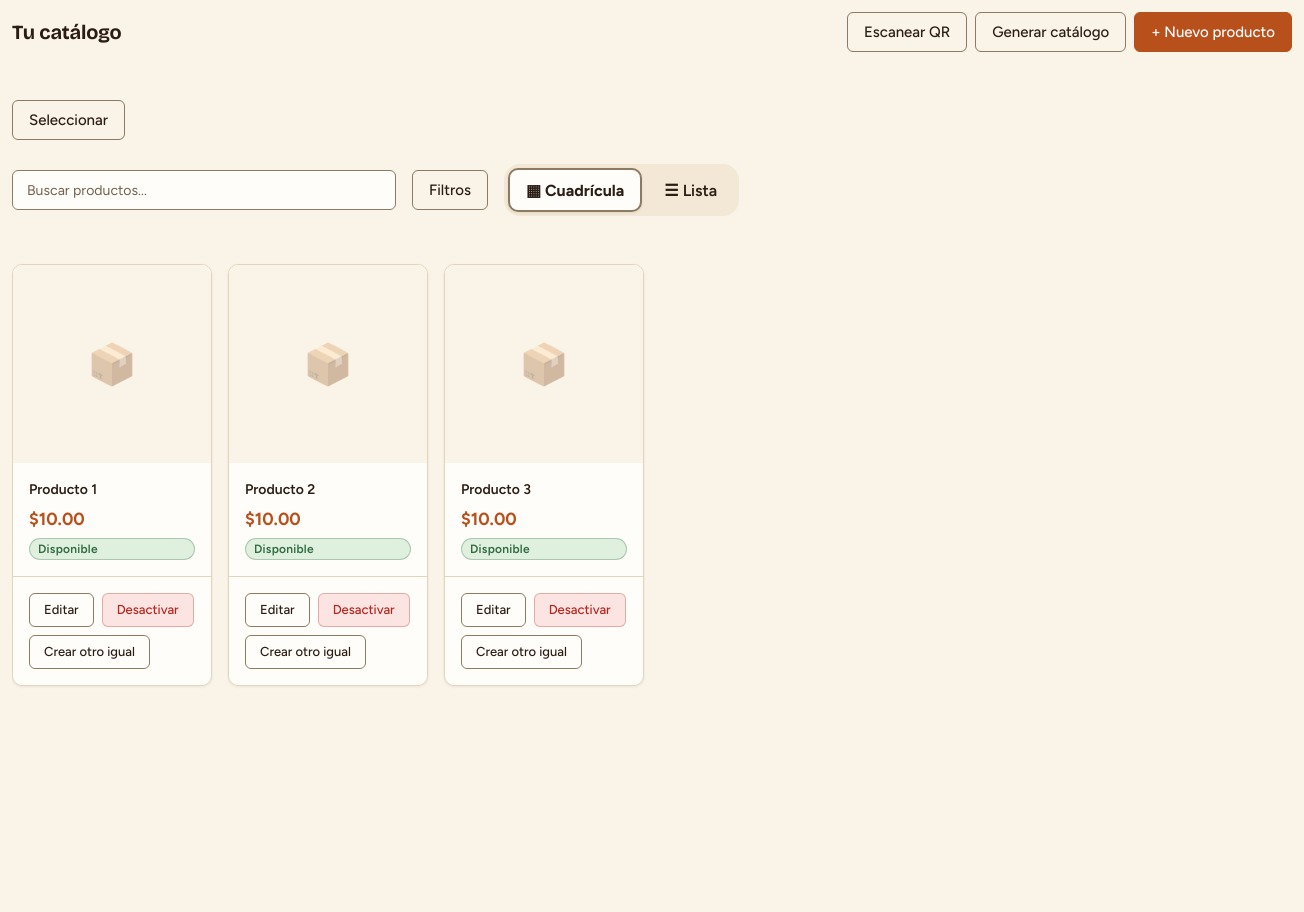
ProductCatalogView — selección para imprimir códigos QR › "Seleccionar todos" trae todos los activos de todas las páginas y avisa cuántos
Step 1. Click the button "Seleccionar" → point(68, 120), box [12,100,125,140]
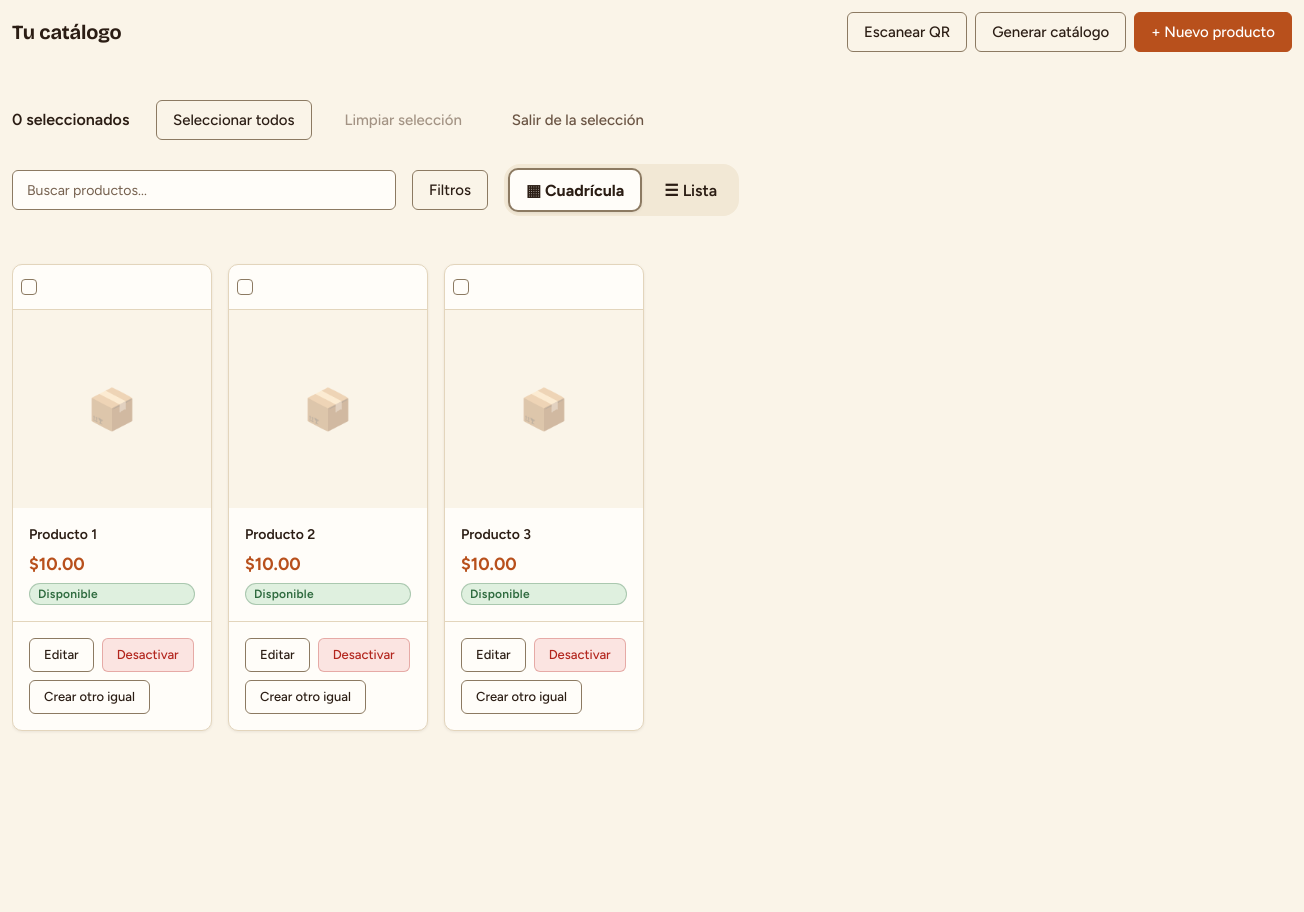
Step 2. Click the button "Seleccionar todos" → point(234, 120), box [156,100,312,140]
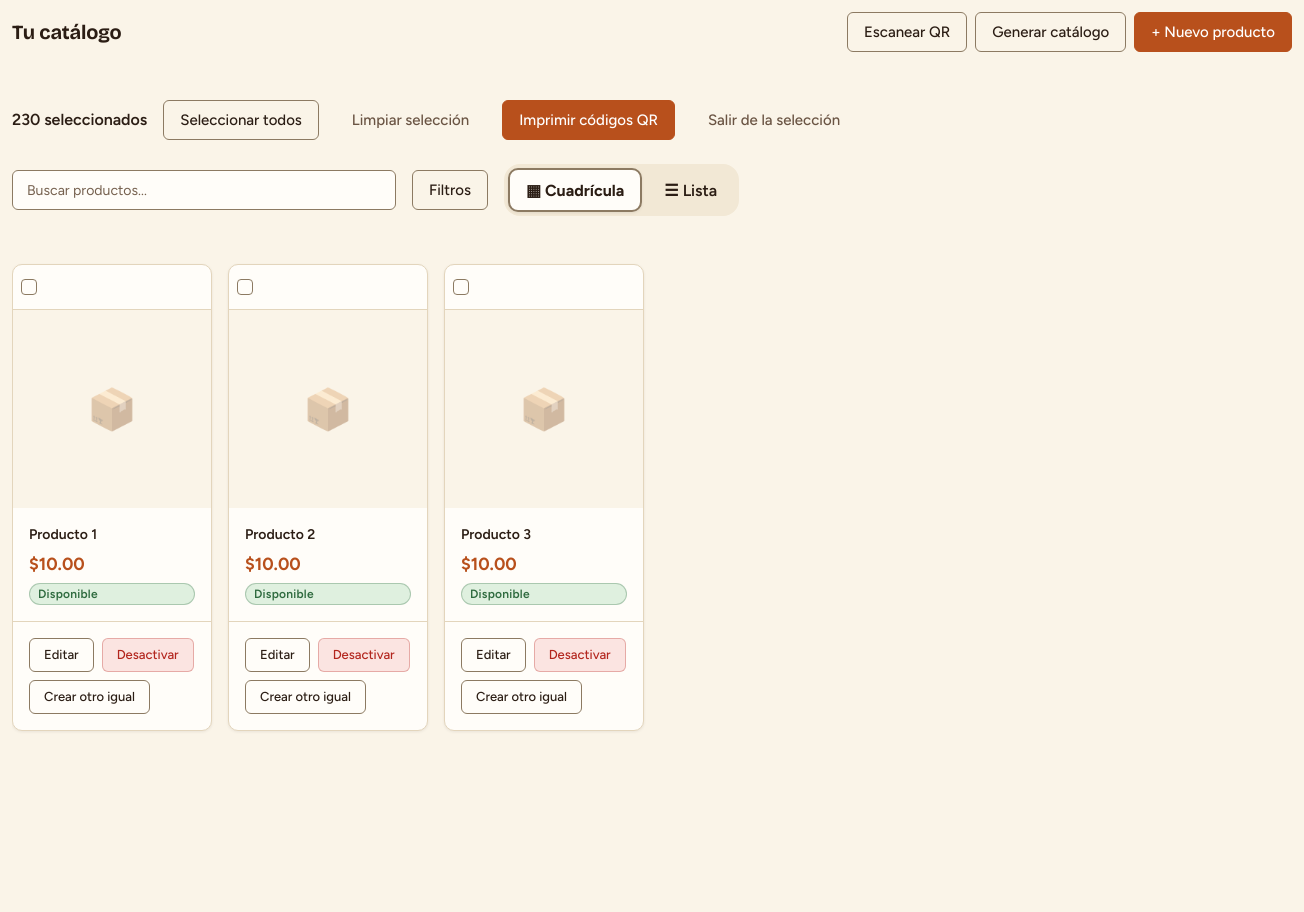
expect the text "230 seleccionados" is shown: met, box [12,107,147,133]
